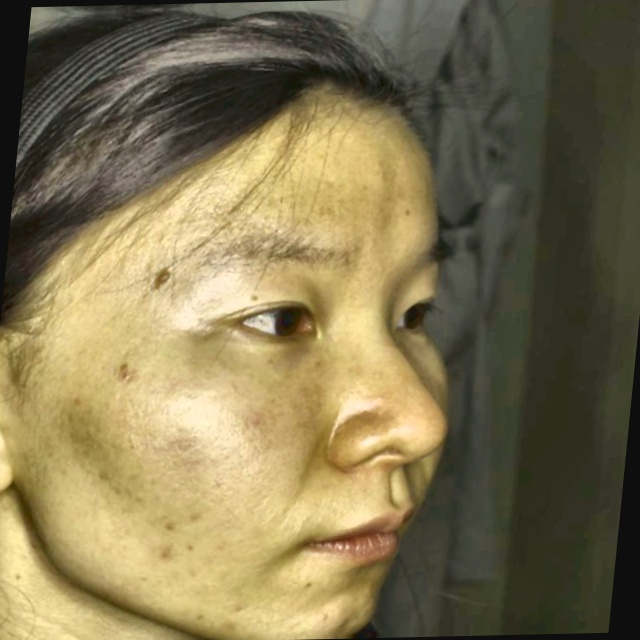comedone: (95, 360, 135, 389)
